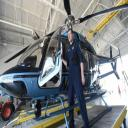helicopter: (2, 8, 125, 118)
